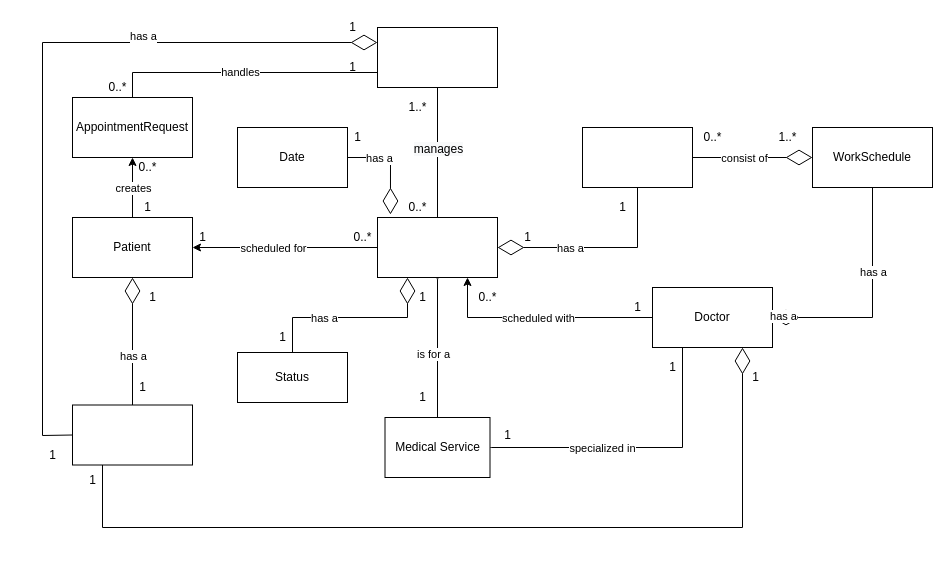
This 950x571 diagram has some shape labels left out. Here are the shapes that lost their labels. From the top down, the centre of each, then its label:
(x=437, y=57): Receptionist
(x=637, y=157): Interval
(x=437, y=247): Appointment
(x=132, y=434): Account
